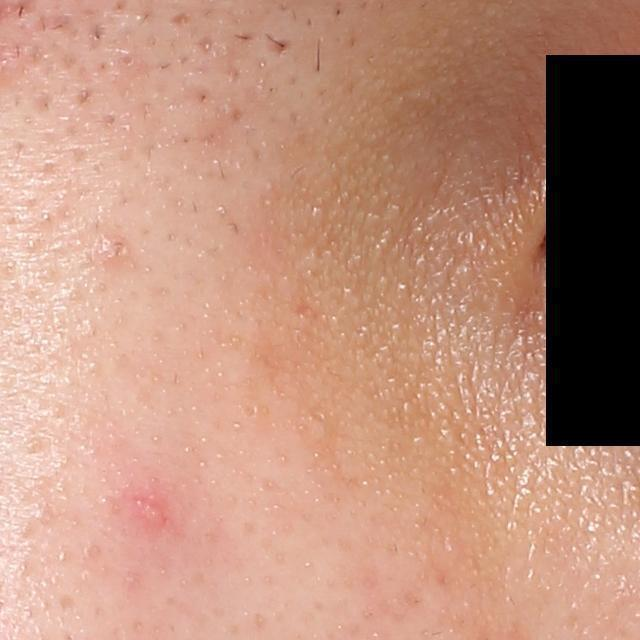papule: (137, 497, 171, 530)
